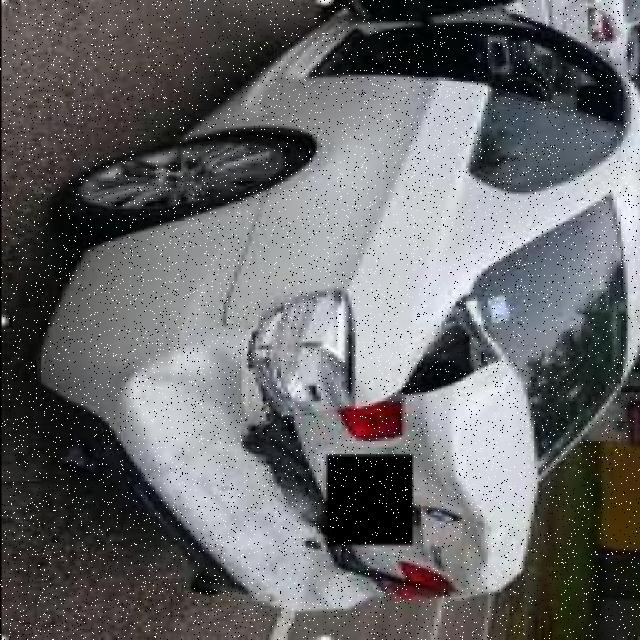damage: (100, 286, 534, 615)
